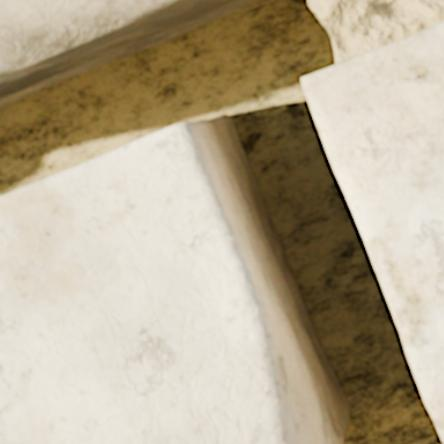brick: (0, 124, 291, 443), (303, 23, 443, 438)
broken_brick: (0, 0, 179, 72)
crack: (0, 0, 443, 443)
